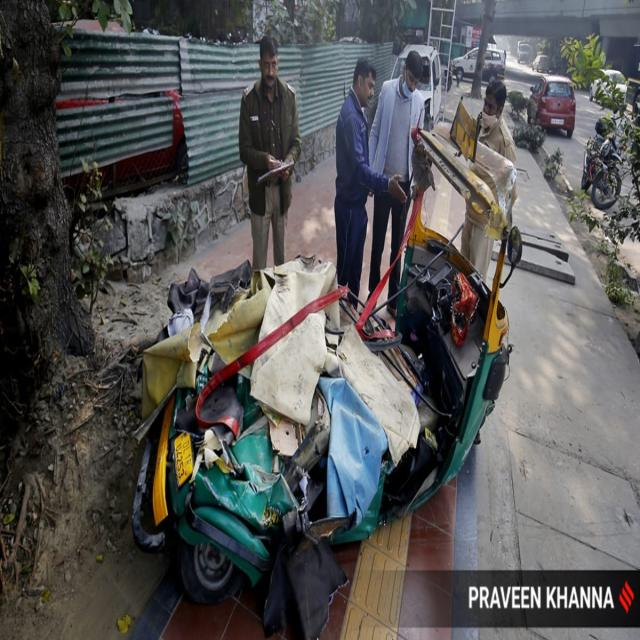accident: (131, 96, 523, 637)
car: (392, 45, 441, 125), (528, 76, 576, 137)
motorcycle: (581, 119, 621, 209)
